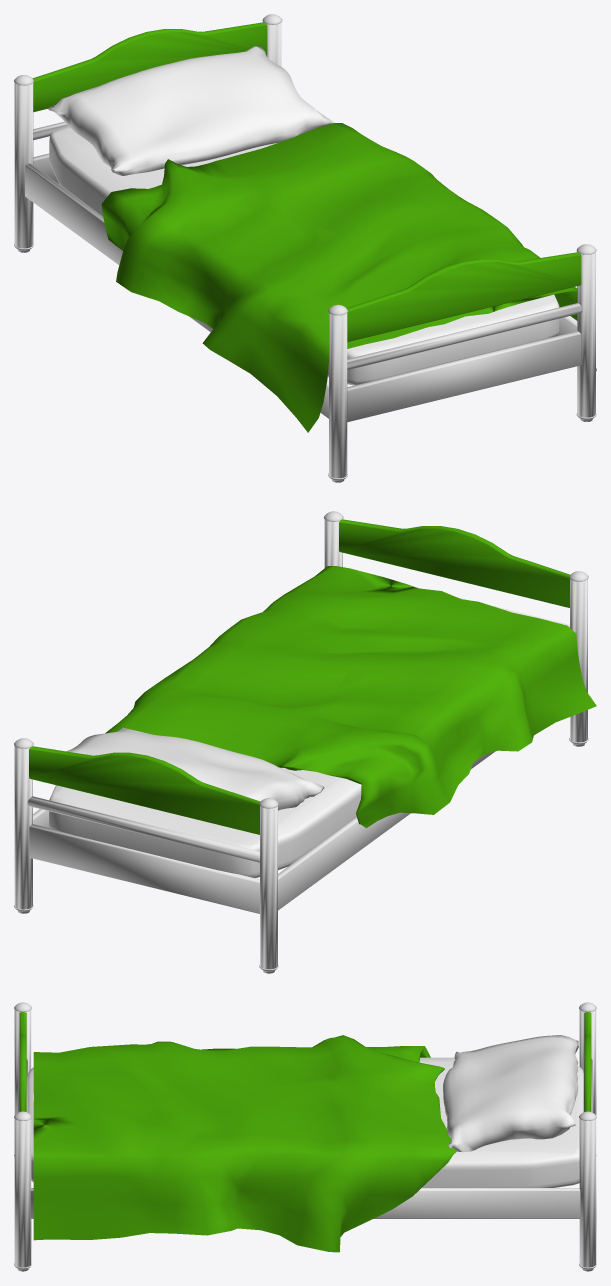
Rendered from bed.fbx.
3 views of the same model, one above another, from view 1: azimuth 30°, elevation 25°; view 2: azimuth 150°, elevation 25°; view 3: azimuth 270°, elevation 25° (orthographic). The views are drawn at different scales.
Visible parts, largest first — view 1: Bett_Decke, Kissen, Bett_Rahmen, Matraze, Fuss_Ende, Pfosten, Kopf_Ende, Stange_2; view 2: Bett_Decke, Matraze, Bett_Rahmen, Kopf_Ende, Fuss_Ende, Pfosten, Kissen, Stange; view 3: Bett_Decke, Kissen, Matraze, Pfosten, Bett_Rahmen, Kopf_Ende, Fuss_Ende.
Part boxes in pixels (x1,y1,x2,y2): Bett_Decke: (101, 123, 596, 432); Kissen: (48, 46, 331, 175); Bett_Rahmen: (25, 153, 581, 422); Matraze: (49, 111, 559, 385); Fuss_Ende: (347, 252, 581, 341); Pfosten: (14, 22, 595, 478); Kopf_Ende: (32, 22, 267, 112); Stange_2: (347, 303, 582, 370); Bett_Decke: (105, 566, 596, 828); Matraze: (49, 768, 361, 878); Bett_Rahmen: (29, 751, 494, 913); Kopf_Ende: (29, 746, 260, 834); Fuss_Ende: (339, 519, 570, 607); Pfosten: (14, 519, 587, 969); Kissen: (67, 727, 324, 810); Stange: (27, 796, 259, 862); Bett_Decke: (33, 1035, 456, 1252); Kissen: (443, 1035, 578, 1152); Matraze: (27, 1057, 583, 1187); Pfosten: (14, 1010, 596, 1267); Bett_Rahmen: (30, 1188, 580, 1218); Kopf_Ende: (584, 1012, 591, 1111); Fuss_Ende: (19, 1012, 26, 1111).
Size of the model in its own units: 124 by 66.75 by 209.
